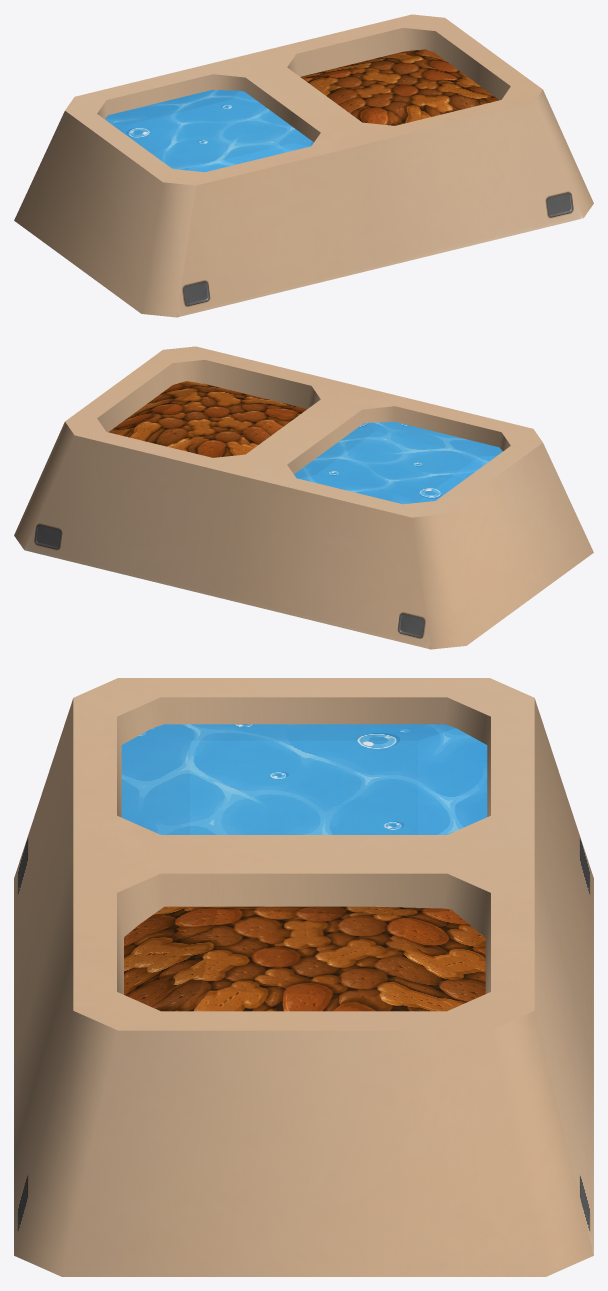
File: PetFeeder.glb
3 views of the same model, one above another, from view 1: azimuth 30°, elevation 25°; view 2: azimuth 150°, elevation 25°; view 3: azimuth 270°, elevation 25° (orthographic). The views are drawn at different scales.
Visible parts, largest first — view 1: PetFeeder; view 2: PetFeeder; view 3: PetFeeder.
Boxes of the visible parts, x1=… form: PetFeeder: x1=14, y1=14, x2=593, y2=317; PetFeeder: x1=14, y1=346, x2=593, y2=649; PetFeeder: x1=14, y1=678, x2=593, y2=1276.
Size of what is drawn, in the model's own units: 1.28 by 0.3034 by 0.7491.
Materials: 1 (1 with a texture image).
